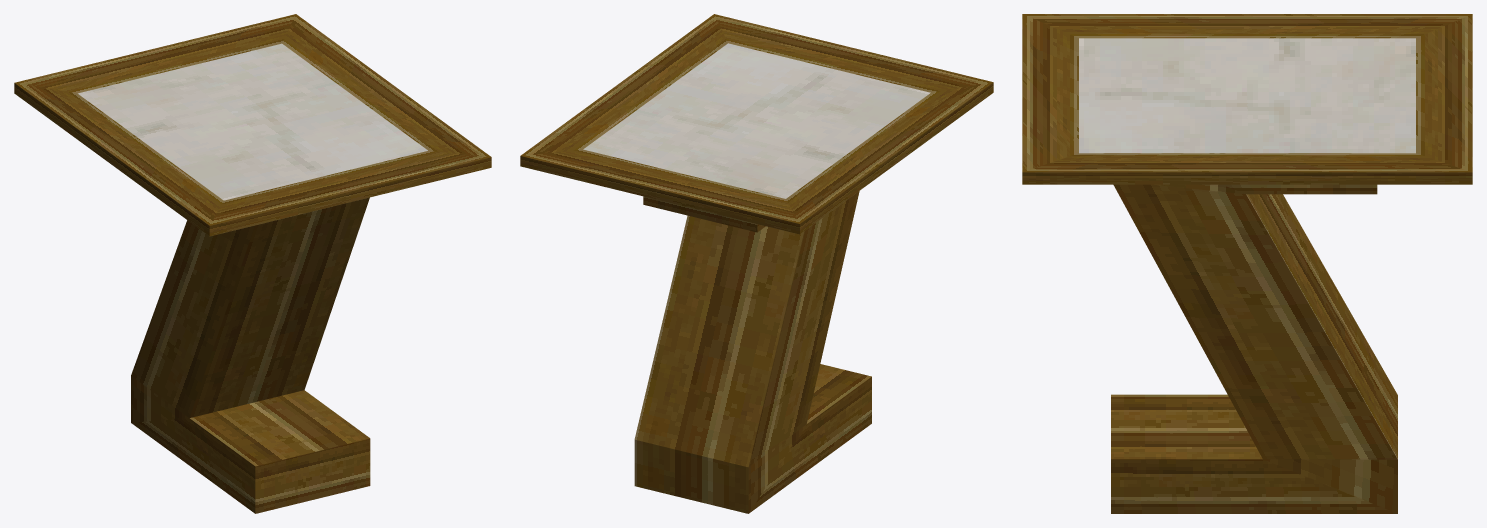
File: office_rect_03.fbx
The picture shows the model from 3 angles, left to right: view 1: azimuth 30°, elevation 25°; view 2: azimuth 150°, elevation 25°; view 3: azimuth 270°, elevation 25°; orthographic projection. The views are drawn at different scales.
Visible parts, largest first — view 1: mesh_0; view 2: mesh_0; view 3: mesh_0.
Boxes of the visible parts, box(x1,y1,x2,y2) form: mesh_0: box(14, 14, 491, 513); mesh_0: box(520, 14, 993, 513); mesh_0: box(1022, 14, 1472, 513).
Size of the model in its own units: 52.55 by 60 by 63.14.
1 material, 1 textured.
